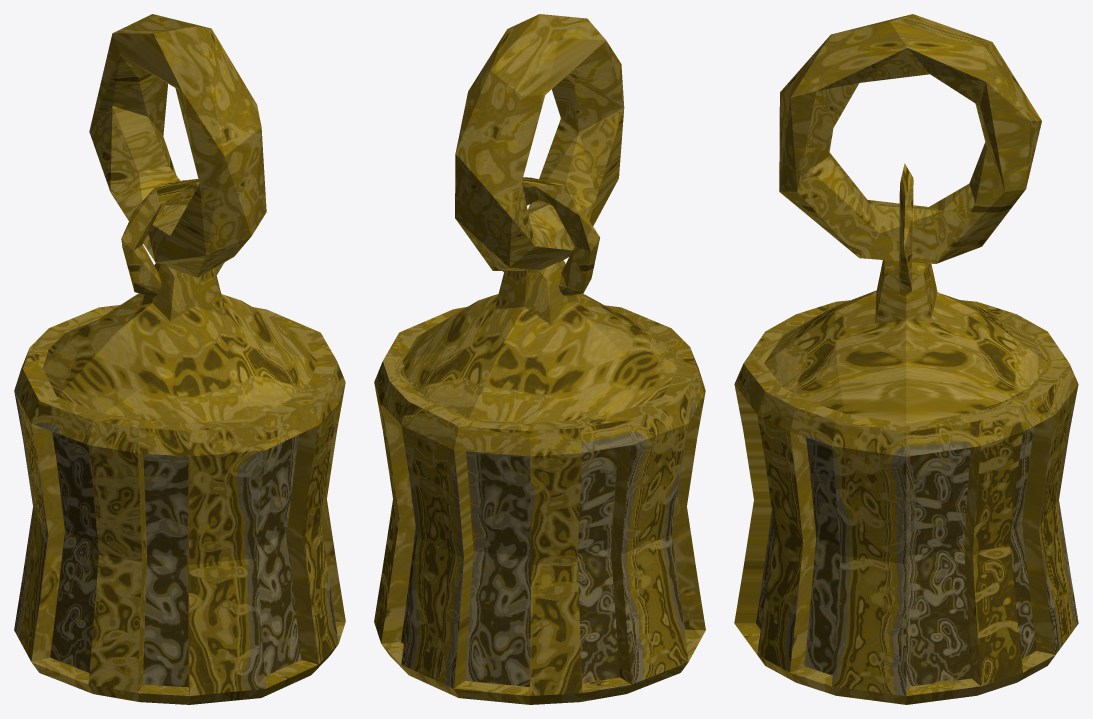
The model's file is cagelantern2.fbx.
3 renders of one model, left to right at view 1: azimuth 30°, elevation 25°; view 2: azimuth 150°, elevation 25°; view 3: azimuth 270°, elevation 25°, orthographic.
Parts seen in each view (by area): view 1: Torus.001; view 2: Torus.001; view 3: Torus.001.
Part boxes in pixels (x1=…): Torus.001: x1=14, y1=14, x2=345, y2=704; Torus.001: x1=374, y1=14, x2=705, y2=704; Torus.001: x1=734, y1=14, x2=1078, y2=704.
Bounding box in the file's own units: 229 × 463 × 229.
